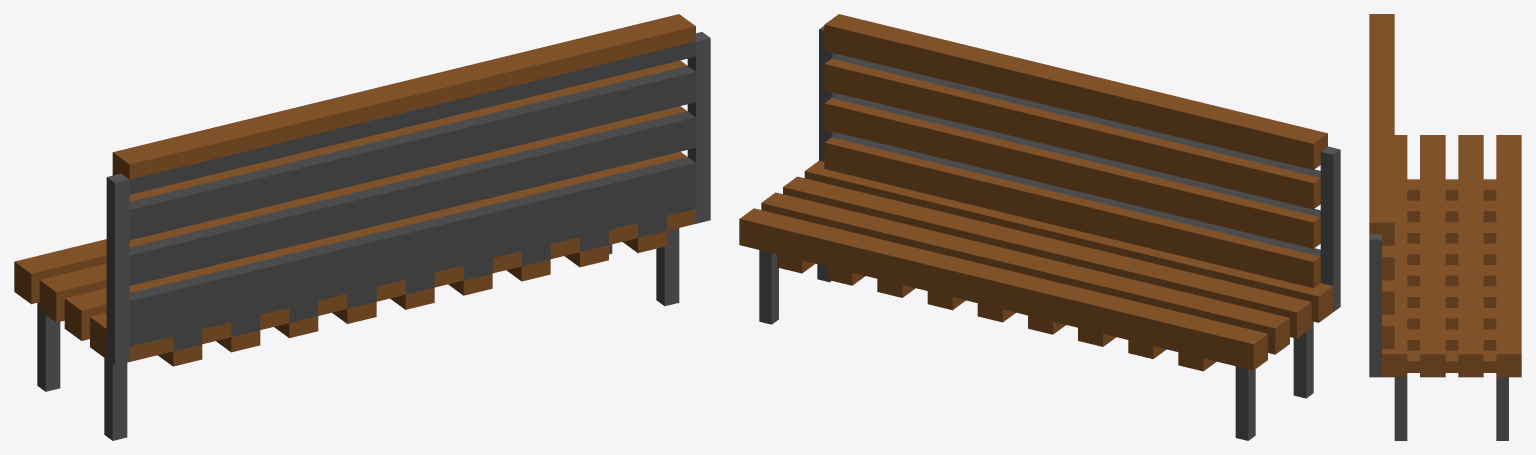
File: Food_Shop-2.obj
The picture shows the model from 3 angles, left to right: view 1: azimuth 30°, elevation 25°; view 2: azimuth 150°, elevation 25°; view 3: azimuth 270°, elevation 25°; orthographic projection. The views are drawn at different scales.
Size of the model in its own units: 4.1 by 1.9 by 1.2.
Materials: 1 (1 with a texture image).
